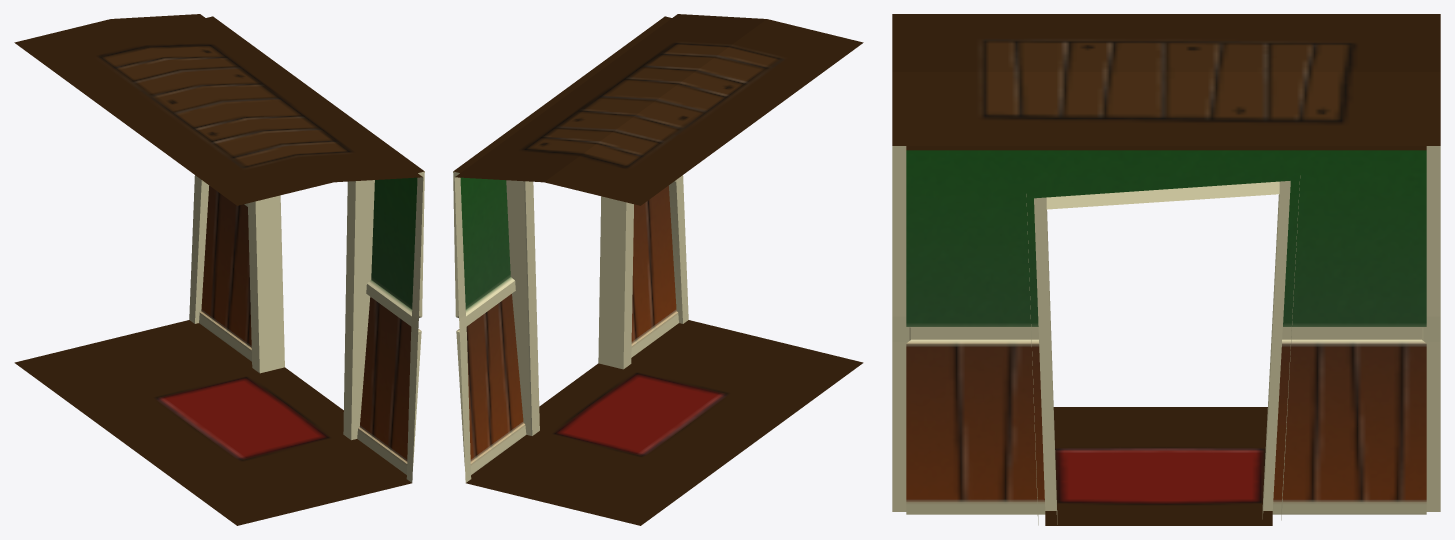
Rendered from Straight_Through_Door.fbx.
3 renders of one model, left to right at view 1: azimuth 30°, elevation 25°; view 2: azimuth 150°, elevation 25°; view 3: azimuth 270°, elevation 25°, orthographic. The views are drawn at different scales.
Visible parts, largest first — view 1: Straight_Through_Door; view 2: Straight_Through_Door; view 3: Straight_Through_Door.
Boxes of the visible parts, x1,y1,x2,y2 form: Straight_Through_Door: (14,14,424,525); Straight_Through_Door: (453,14,863,525); Straight_Through_Door: (892,14,1440,525).
Size of the model in its own units: 2.05 by 3.17 by 4.
